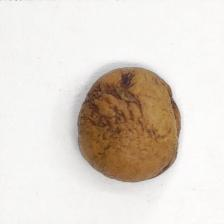NG: (82, 67, 144, 142)
